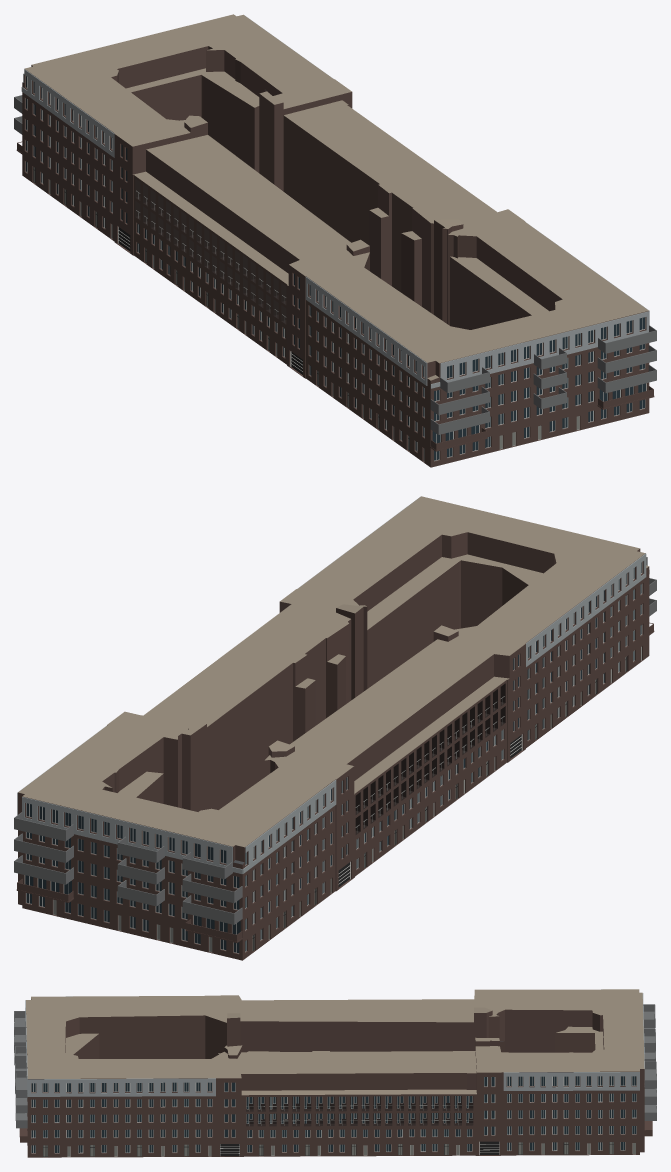
The model's file is recipe-large-soendastraat-1-127-249646.glb.
3 renders of one model, top to bottom at view 1: azimuth 30°, elevation 25°; view 2: azimuth 150°, elevation 25°; view 3: azimuth 270°, elevation 25°, orthographic. The views are drawn at different scales.
Parts seen in each view (by area): view 1: soendastraat-1-127-249646; view 2: soendastraat-1-127-249646; view 3: soendastraat-1-127-249646.
Part boxes in pixels (x1,y1,x2,y2): soendastraat-1-127-249646: (14,14,656,467); soendastraat-1-127-249646: (14,496,656,960); soendastraat-1-127-249646: (14,989,656,1157).
Size of the model in its own units: 35.95 by 17.38 by 114.
